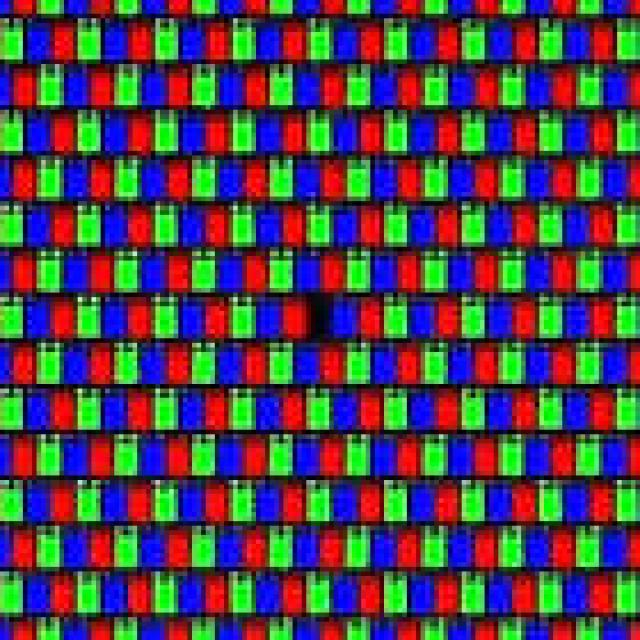dead_pixel: (348, 330, 384, 367)
